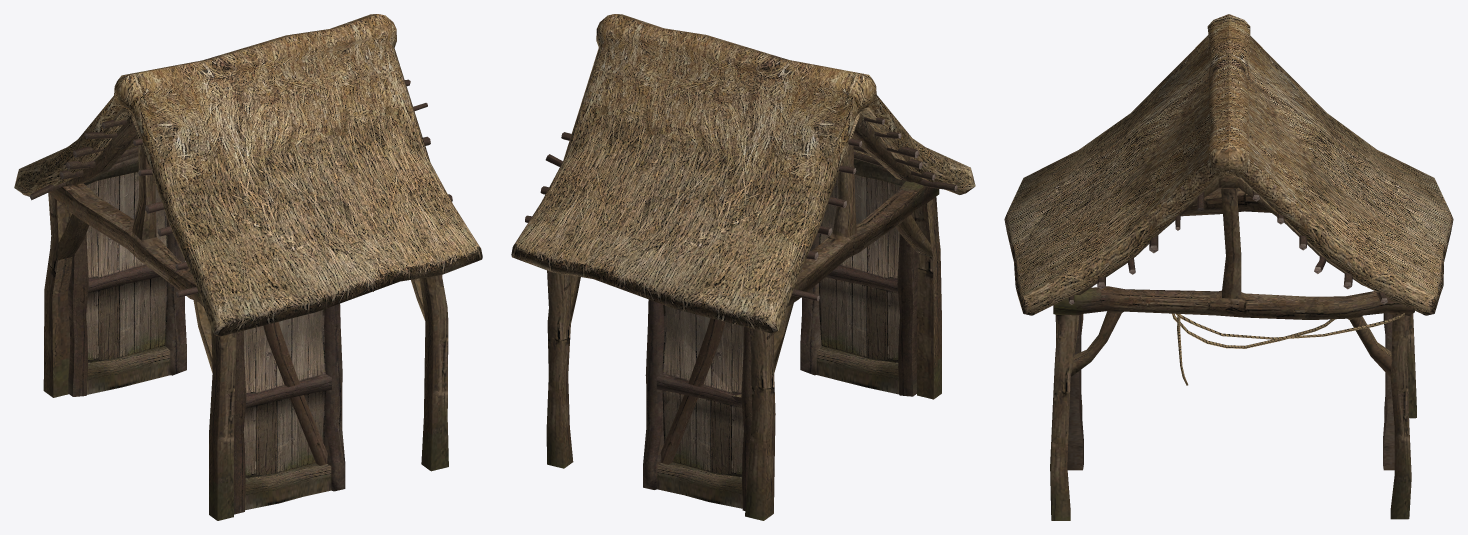
File: Barn01.FBX
The picture shows the model from 3 angles, left to right: view 1: azimuth 30°, elevation 25°; view 2: azimuth 150°, elevation 25°; view 3: azimuth 270°, elevation 25°; orthographic projection. The views are drawn at different scales.
Parts seen in each view (by area): view 1: LV_TurtleLake_Lakevillage_HouseBarn01_SM_EYE; view 2: LV_TurtleLake_Lakevillage_HouseBarn01_SM_EYE; view 3: LV_TurtleLake_Lakevillage_HouseBarn01_SM_EYE.
Boxes of the visible parts, x1,y1,x2,y2 form: LV_TurtleLake_Lakevillage_HouseBarn01_SM_EYE: (14,14,482,520); LV_TurtleLake_Lakevillage_HouseBarn01_SM_EYE: (511,14,975,520); LV_TurtleLake_Lakevillage_HouseBarn01_SM_EYE: (1004,14,1453,520).
Bounding box in the file's own units: 122 × 149 × 155.
